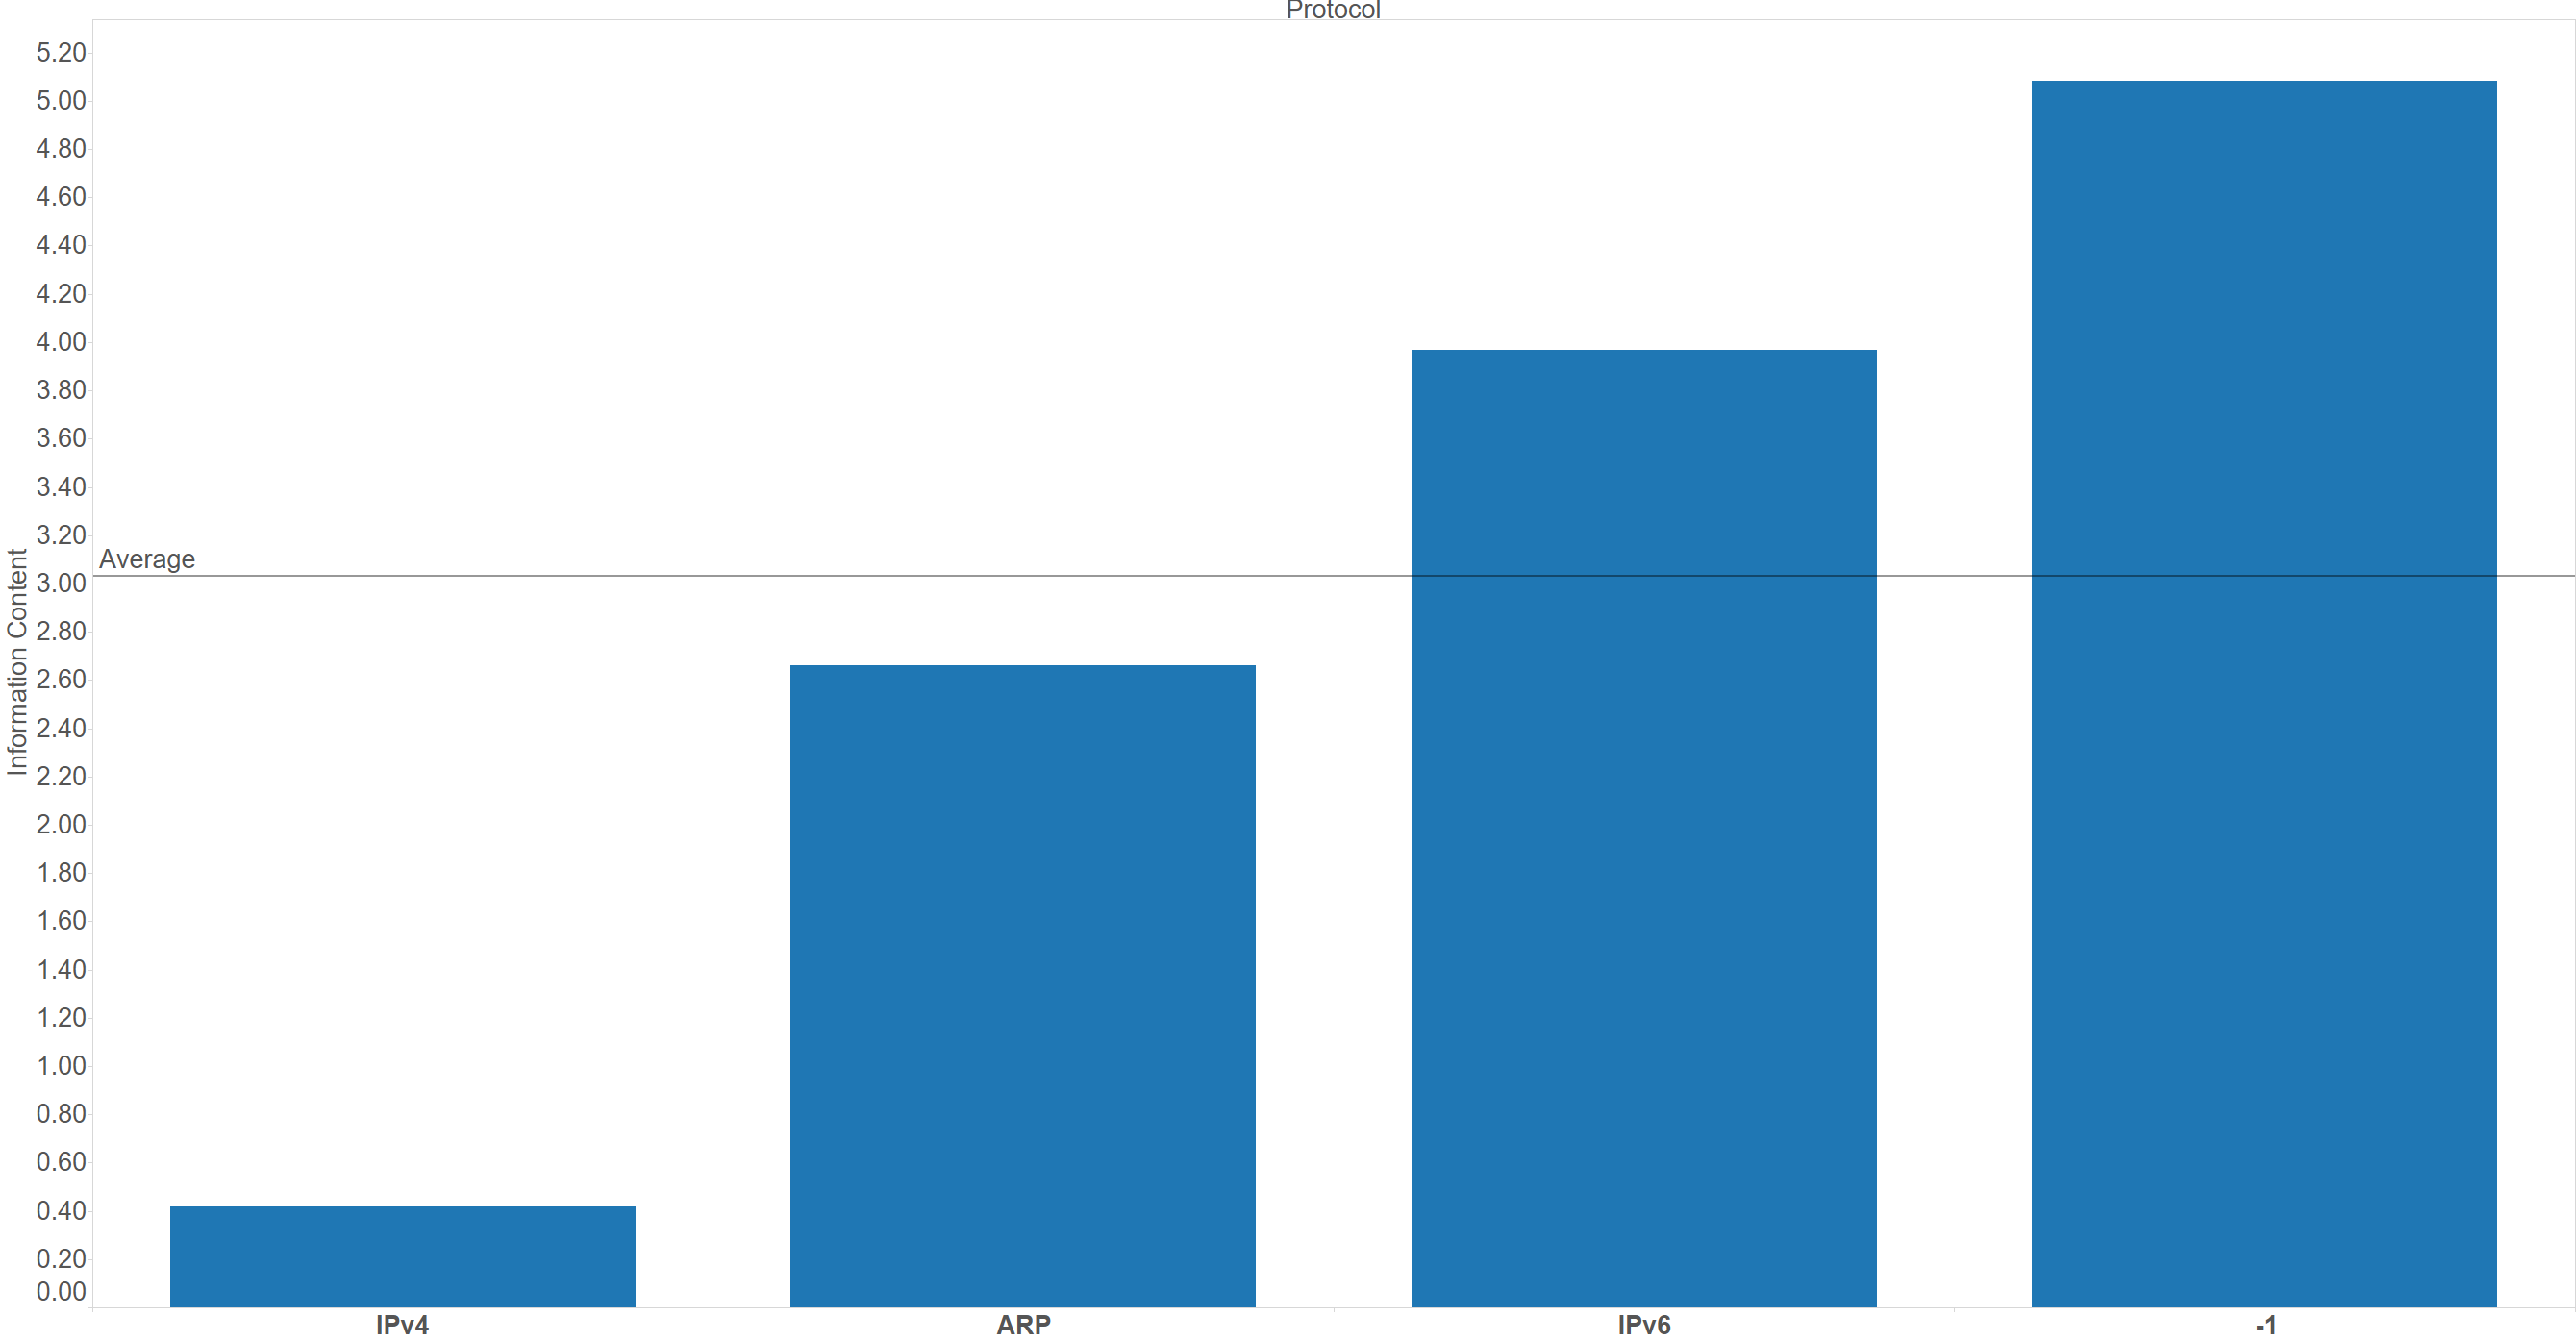

What the dashboard file says about the page in this screenshot:
{"tool":"tableau","page":{"name":"Protocol PDF Dashboard","canvas":[1000,1000],"units":"permille","ordinal":2},"visuals":[{"type":"worksheet","title":"Protocol PDF","mark":"Bar","rows":["Calculation_558446359775064070"],"cols":["protocol"],"box":[0,0,1000,1000]}]}

Visuals, with their boxes on the dashboard's canvas, which has no fixed pixel size, in thousandths of its width and height (x1, y1, x2, y2). These are canvas units, not pixel positions in the 2576x1342 screenshot, which may show the page scaled, cropped or inside an application window:
"Protocol PDF" worksheet (Bar marks): <region>0, 0, 1000, 1000</region>
